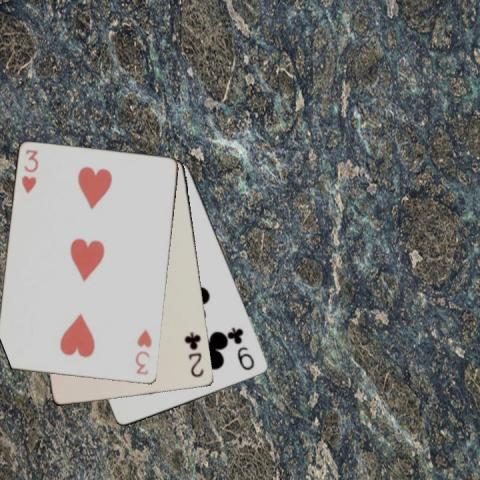2c: (182, 329, 205, 379)
3h: (19, 146, 40, 194), (133, 326, 153, 376)
9c: (227, 325, 257, 372)
